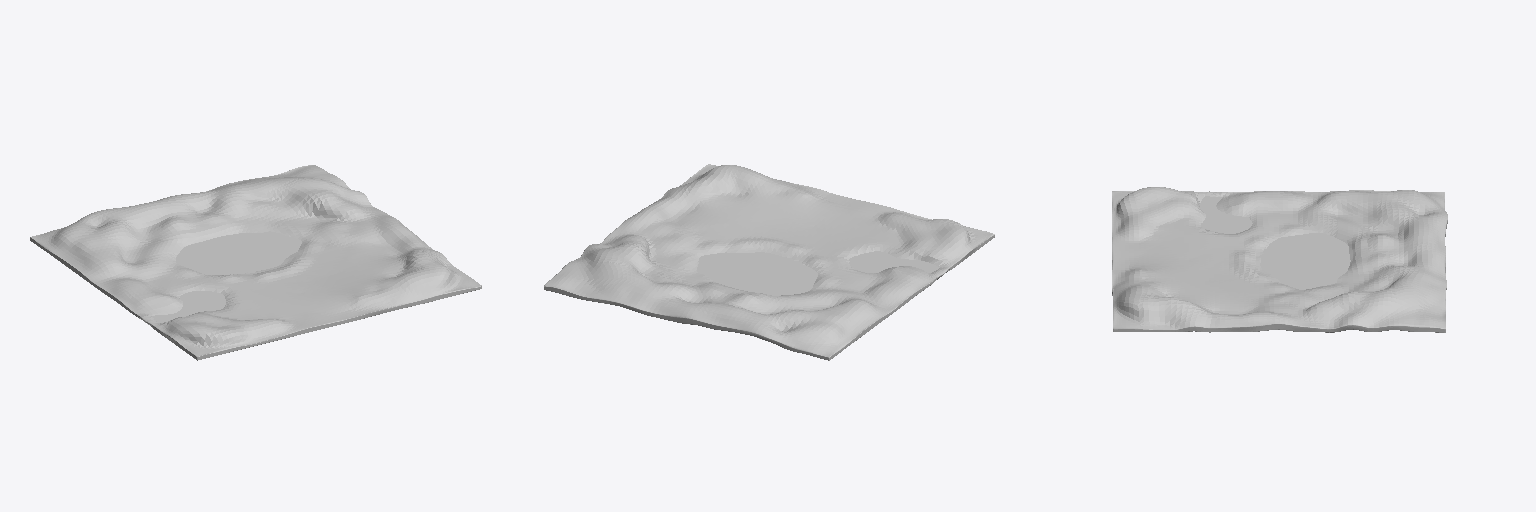
File: ground4.obj
3 renders of one model, left to right at view 1: azimuth 30°, elevation 25°; view 2: azimuth 150°, elevation 25°; view 3: azimuth 270°, elevation 25°, orthographic.
Visible parts, largest first — view 1: 10450_Rectangular_Grass_Patch_v1_iterations-2, Plane_Plane.001; view 2: 10450_Rectangular_Grass_Patch_v1_iterations-2, Plane_Plane.001; view 3: 10450_Rectangular_Grass_Patch_v1_iterations-2, Plane_Plane.001.
Part boxes in pixels (bbox=[...]): 10450_Rectangular_Grass_Patch_v1_iterations-2: bbox=[30, 165, 481, 360]; Plane_Plane.001: bbox=[152, 231, 301, 322]; 10450_Rectangular_Grass_Patch_v1_iterations-2: bbox=[544, 164, 994, 360]; Plane_Plane.001: bbox=[697, 251, 939, 295]; 10450_Rectangular_Grass_Patch_v1_iterations-2: bbox=[1112, 187, 1447, 332]; Plane_Plane.001: bbox=[1200, 196, 1350, 289].
Size of the model in its own units: 15.95 by 1.28 by 16.16.